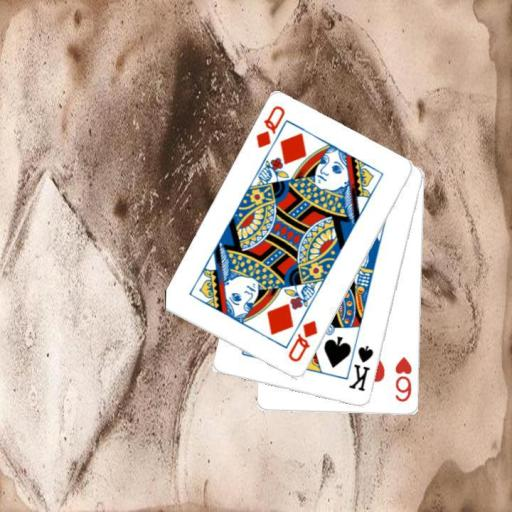6H: (392, 354, 414, 404)
KS: (347, 342, 376, 393)
QD: (253, 102, 287, 150), (285, 317, 319, 364)
